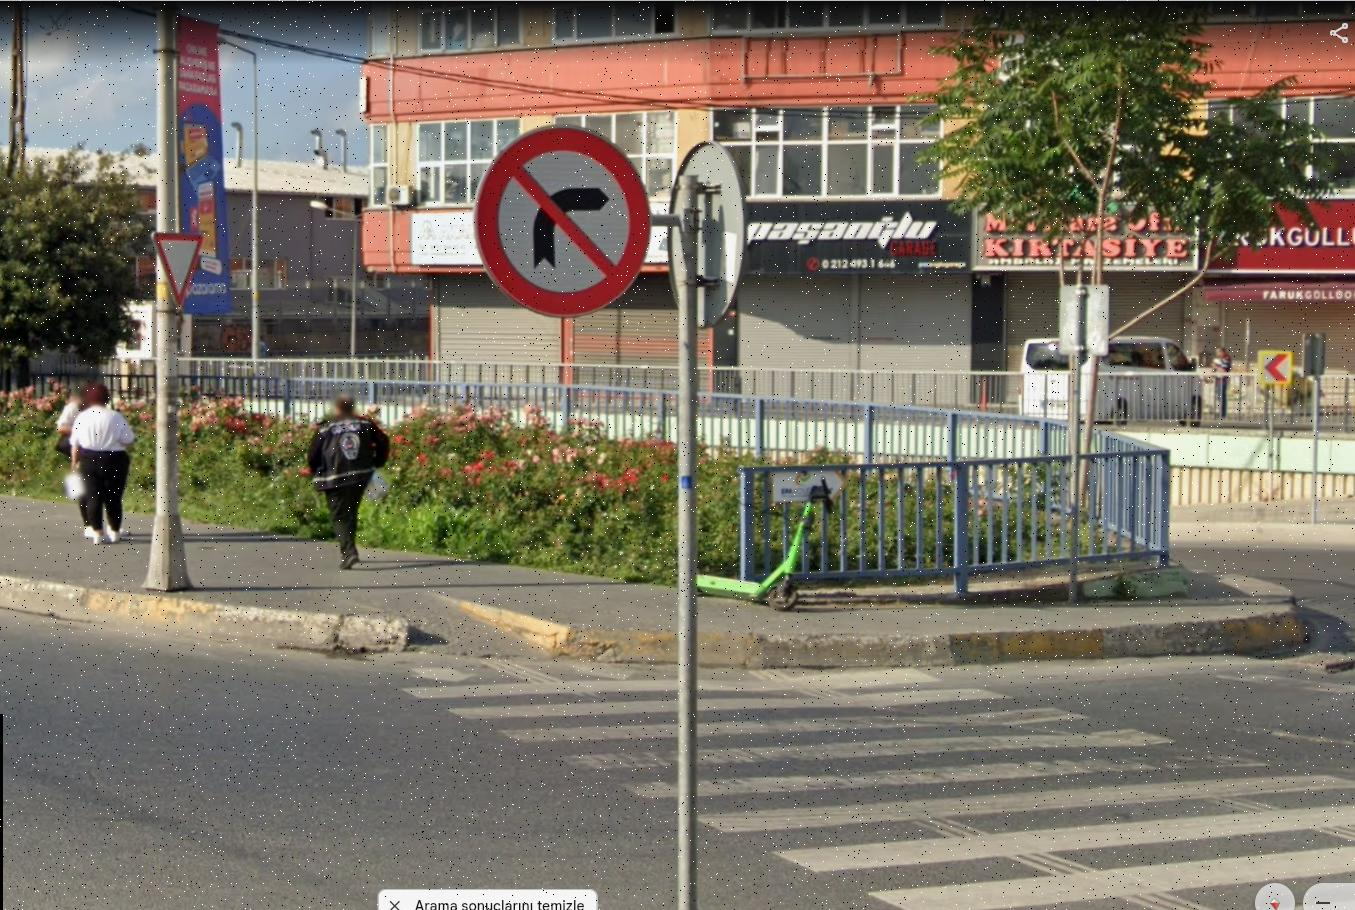rightturnsareforbidden: (480, 131, 647, 305)
